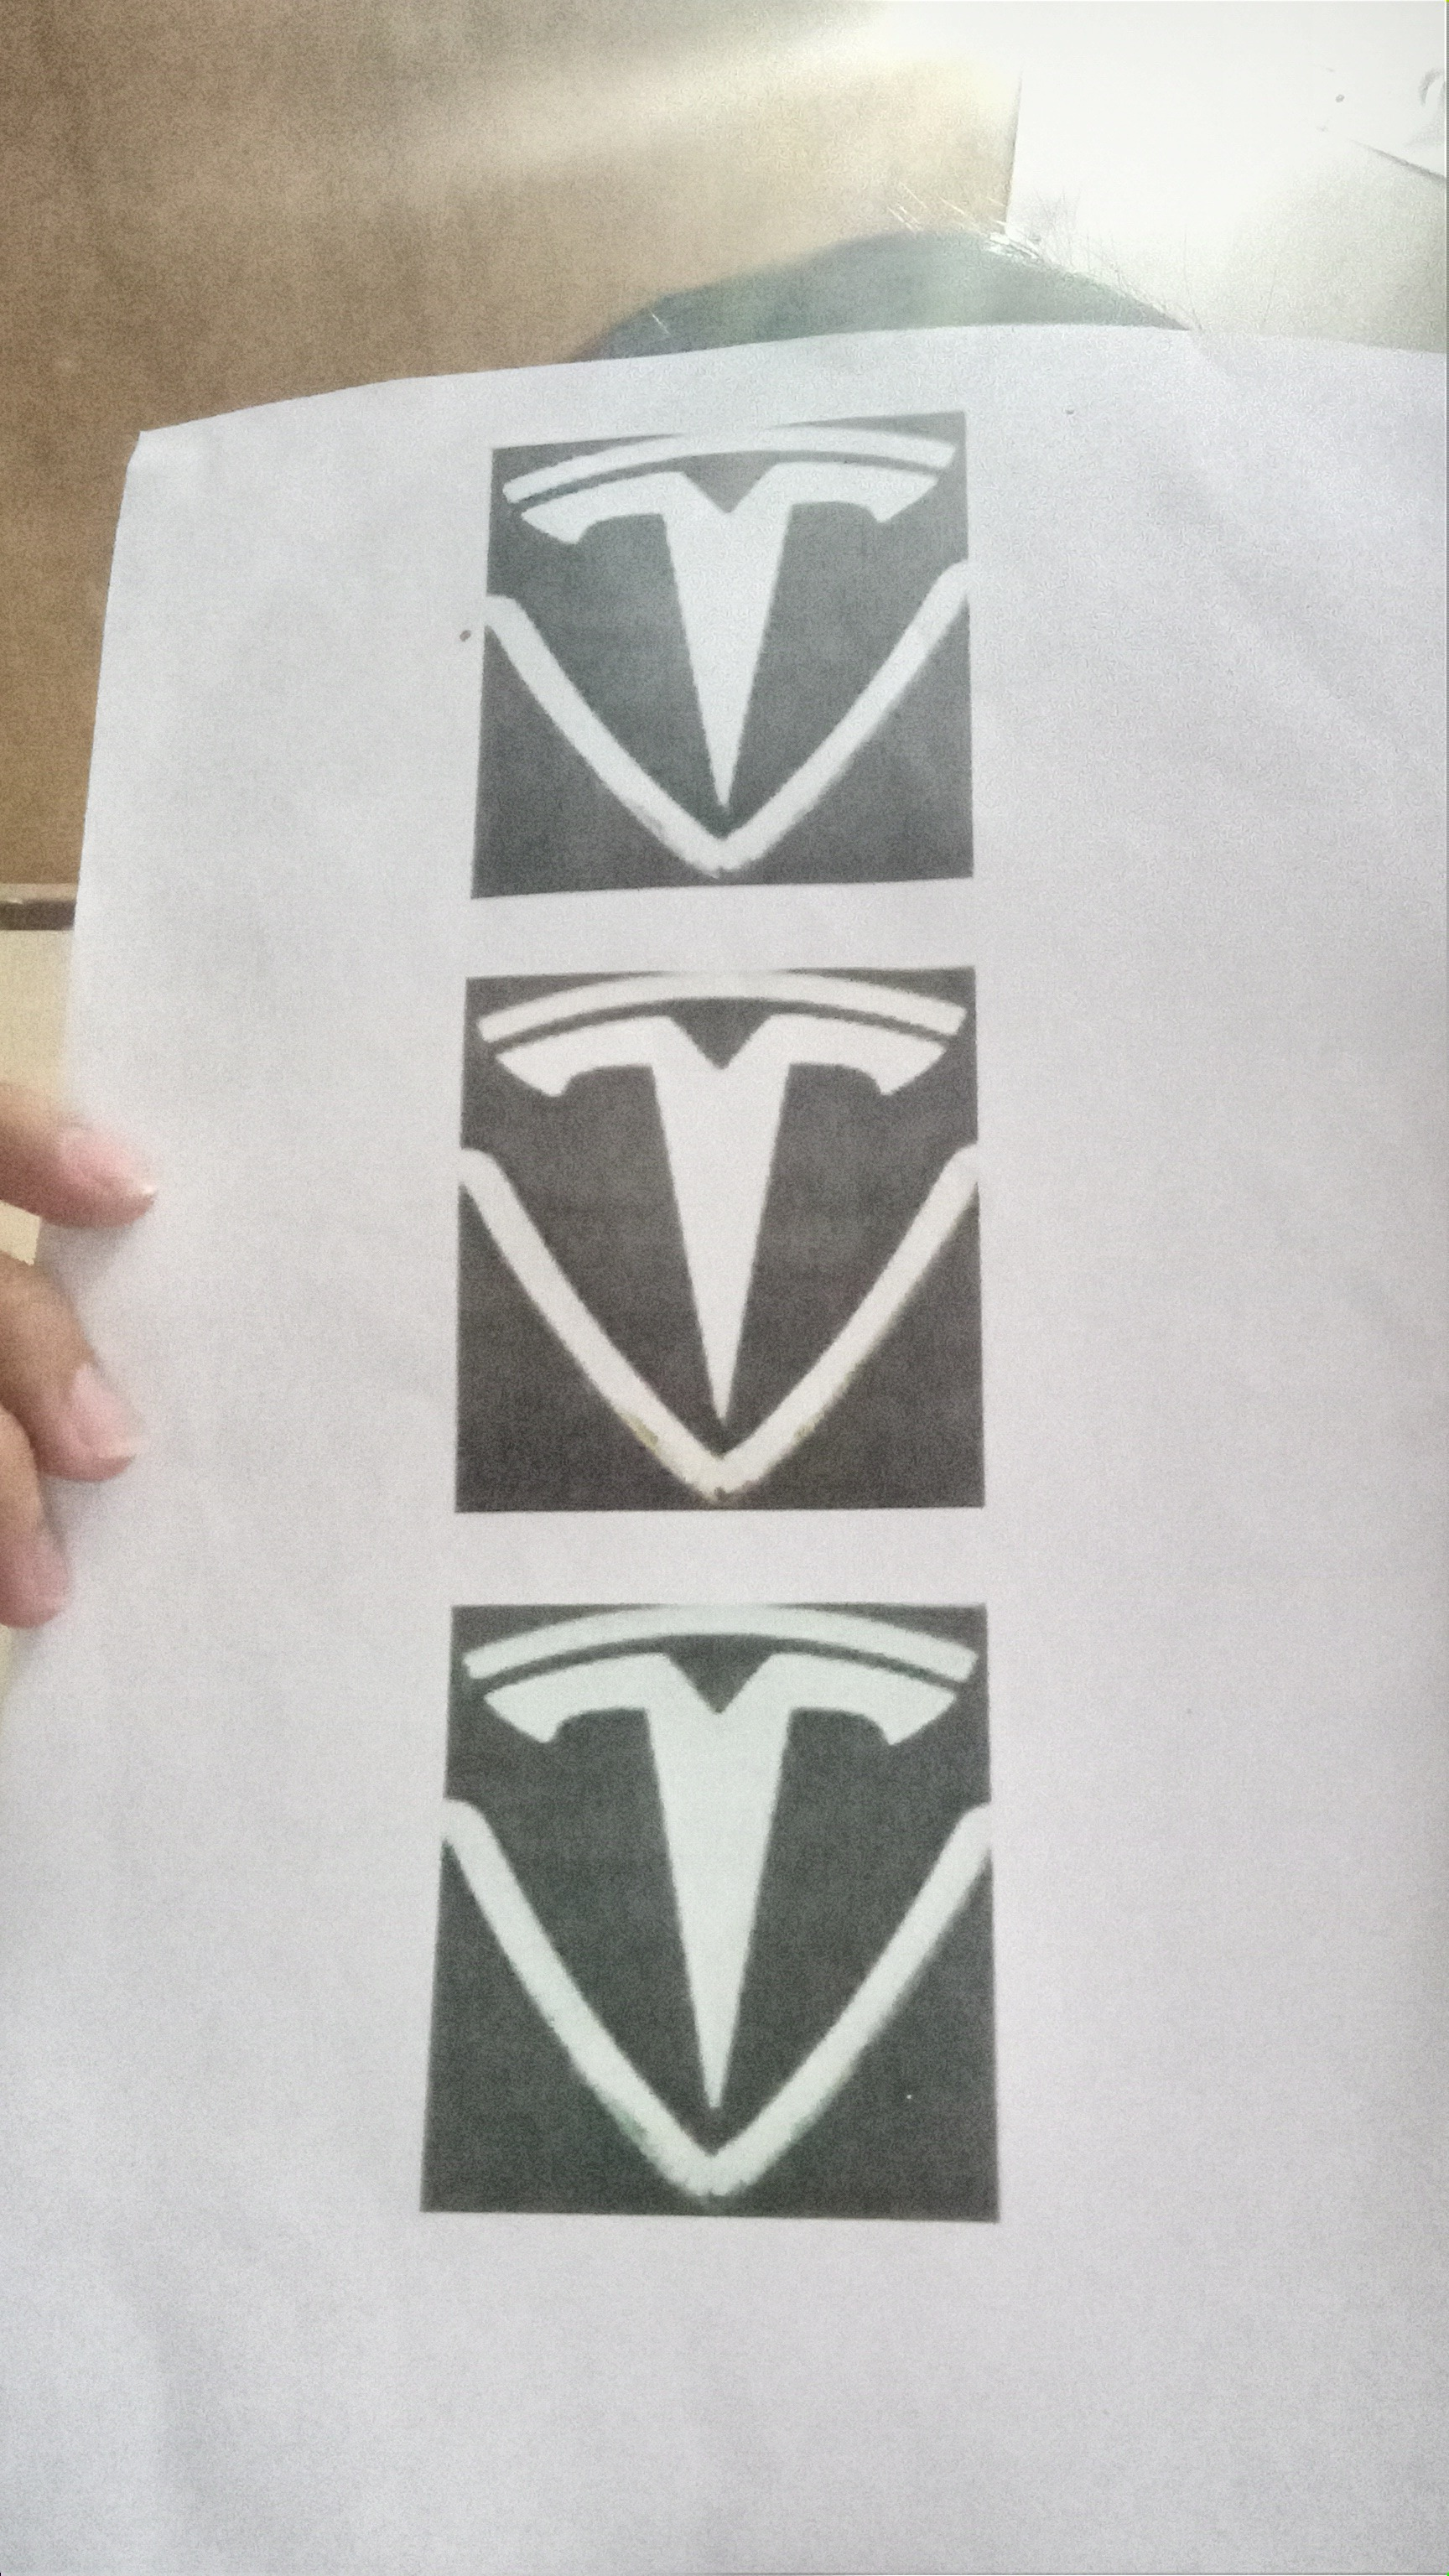Tesla: (451, 1606, 998, 2212), (460, 968, 980, 1506), (490, 423, 978, 890)
